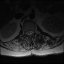CCS_normal: (28, 28, 30, 36)
LFS_normal: (33, 28, 35, 34)
LLS_normal: (30, 28, 33, 35)
RFS_normal: (24, 29, 26, 36)
RLS_normal: (26, 29, 28, 35)
